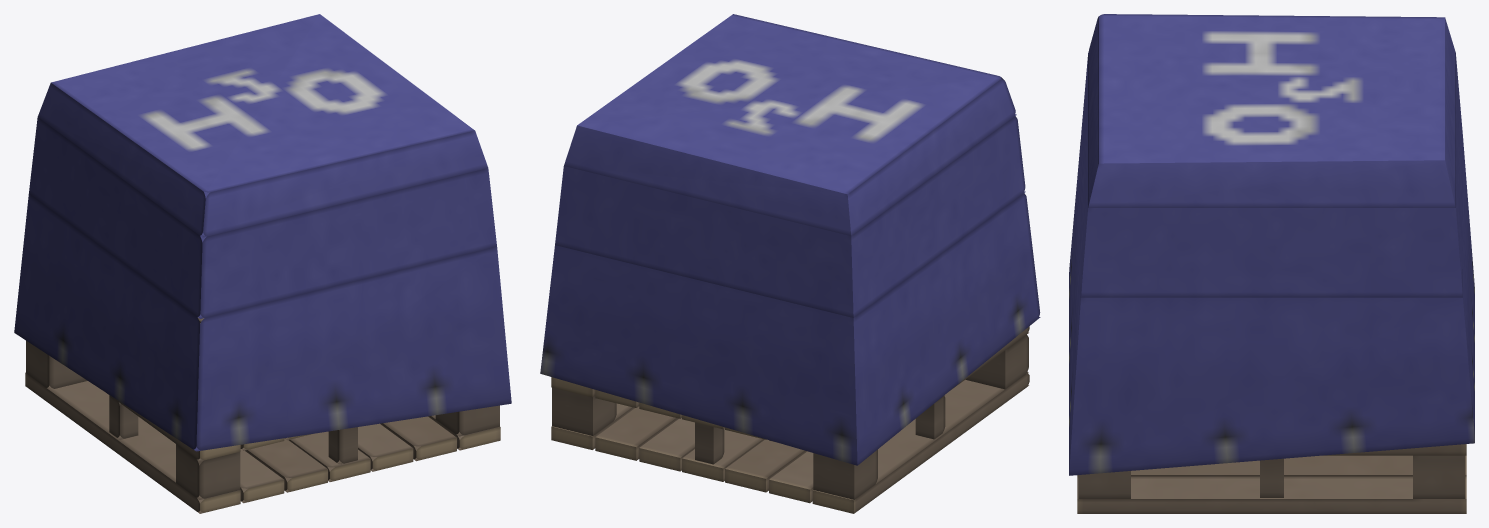
File: waterpallettarp.obj
3 views of the same model, side by side, from view 1: azimuth 30°, elevation 25°; view 2: azimuth 150°, elevation 25°; view 3: azimuth 270°, elevation 25° (orthographic). The views are drawn at different scales.
Visible parts, largest first — view 1: yourclassnameModel26, yourclassnameModel27, yourclassnameModel25, yourclassnameModel0, yourclassnameModel3, yourclassnameModel15, yourclassnameModel20, yourclassnameModel19, yourclassnameModel13, yourclassnameModel11, yourclassnameModel2, yourclassnameModel4 (+4 smaller); view 2: yourclassnameModel26, yourclassnameModel27, yourclassnameModel25, yourclassnameModel0, yourclassnameModel20, yourclassnameModel15, yourclassnameModel2, yourclassnameModel5, yourclassnameModel19, yourclassnameModel3, yourclassnameModel13, yourclassnameModel11 (+3 smaller); view 3: yourclassnameModel27, yourclassnameModel26, yourclassnameModel25, yourclassnameModel21, yourclassnameModel20, yourclassnameModel5, yourclassnameModel4, yourclassnameModel16, yourclassnameModel9.
Part boxes in pixels (box(x1,y1,x2,y2)): yourclassnameModel26: box(14, 194, 511, 451); yourclassnameModel27: box(37, 14, 488, 237); yourclassnameModel25: box(29, 117, 496, 318); yourclassnameModel0: box(25, 372, 240, 513); yourclassnameModel3: box(176, 444, 240, 499); yourclassnameModel15: box(245, 438, 327, 492); yourclassnameModel20: box(380, 416, 456, 461); yourclassnameModel19: box(358, 423, 413, 471); yourclassnameModel13: box(288, 431, 370, 481); yourclassnameModel11: box(240, 449, 284, 503); yourclassnameModel2: box(26, 340, 87, 388); yourclassnameModel4: box(435, 405, 499, 436); yourclassnameModel26: box(540, 193, 1040, 465); yourclassnameModel27: box(564, 14, 1016, 235); yourclassnameModel25: box(555, 116, 1025, 317); yourclassnameModel0: box(812, 373, 1029, 513); yourclassnameModel20: box(595, 406, 678, 460); yourclassnameModel15: box(725, 439, 806, 492); yourclassnameModel2: box(813, 449, 877, 499); yourclassnameModel5: box(552, 387, 616, 435); yourclassnameModel19: box(639, 418, 694, 471); yourclassnameModel3: box(965, 335, 1028, 389); yourclassnameModel13: box(682, 428, 764, 481); yourclassnameModel11: box(769, 451, 813, 503); yourclassnameModel27: box(1088, 14, 1455, 207); yourclassnameModel26: box(1069, 138, 1474, 475); yourclassnameModel25: box(1081, 57, 1462, 297); yourclassnameModel21: box(1077, 476, 1466, 513); yourclassnameModel20: box(1077, 455, 1466, 478); yourclassnameModel5: box(1413, 455, 1465, 498); yourclassnameModel4: box(1078, 471, 1130, 498); yourclassnameModel16: box(1323, 444, 1466, 455); yourclassnameModel9: box(1260, 458, 1283, 497).
Bounding box in the file's own units: 17 × 15.95 × 17.
